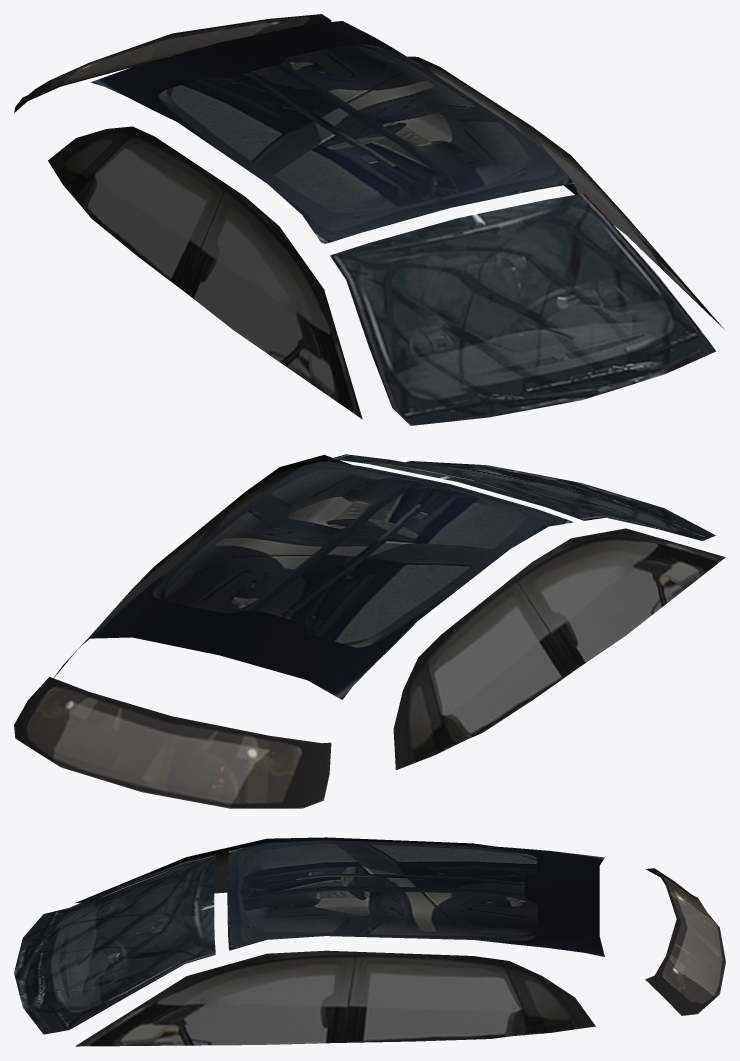
The model's file is MKC_Windows.obj.
3 renders of one model, top to bottom at view 1: azimuth 30°, elevation 25°; view 2: azimuth 150°, elevation 25°; view 3: azimuth 270°, elevation 25°, orthographic. The views are drawn at different scales.
Parts seen in each view (by area): view 1: MKC_Windows; view 2: MKC_Windows; view 3: MKC_Windows.
Part boxes in pixels (bbox=[...]): MKC_Windows: bbox=[14, 14, 724, 425]; MKC_Windows: bbox=[14, 454, 725, 808]; MKC_Windows: bbox=[14, 837, 725, 1046].
Bounding box in the file's own units: 16.77 × 4.66 × 32.43.
